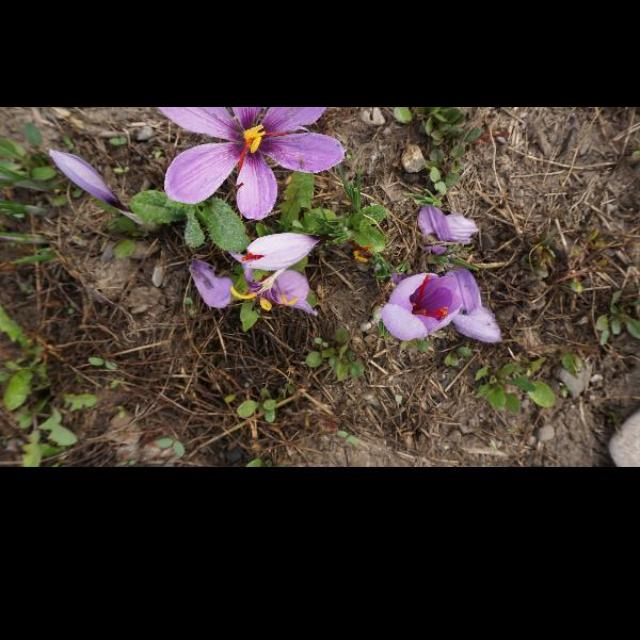flower: (164, 107, 344, 221), (381, 273, 463, 343), (48, 150, 128, 208), (240, 232, 324, 272)
